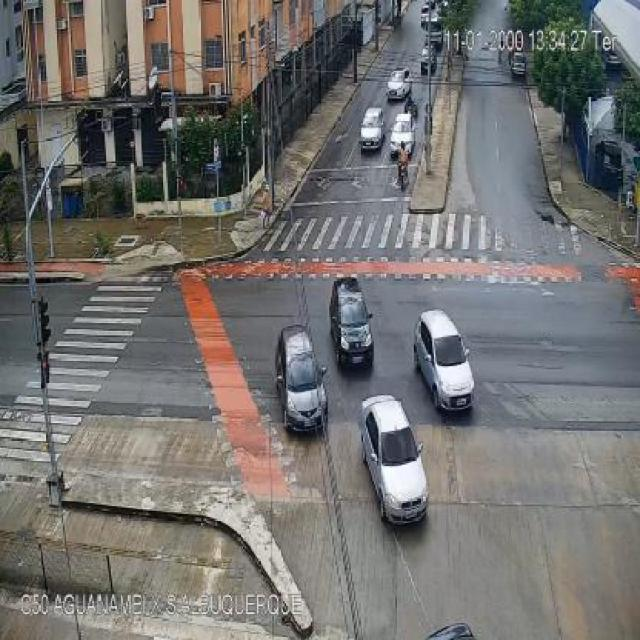car: (362, 395, 428, 525), (415, 310, 474, 411), (275, 325, 328, 431), (330, 278, 371, 367), (390, 114, 415, 158), (360, 108, 385, 152), (360, 108, 382, 152), (386, 68, 412, 101), (420, 48, 438, 74), (510, 51, 526, 78)
motorcyclist: (398, 144, 410, 191)
traffic-lights: (32, 296, 61, 507)
